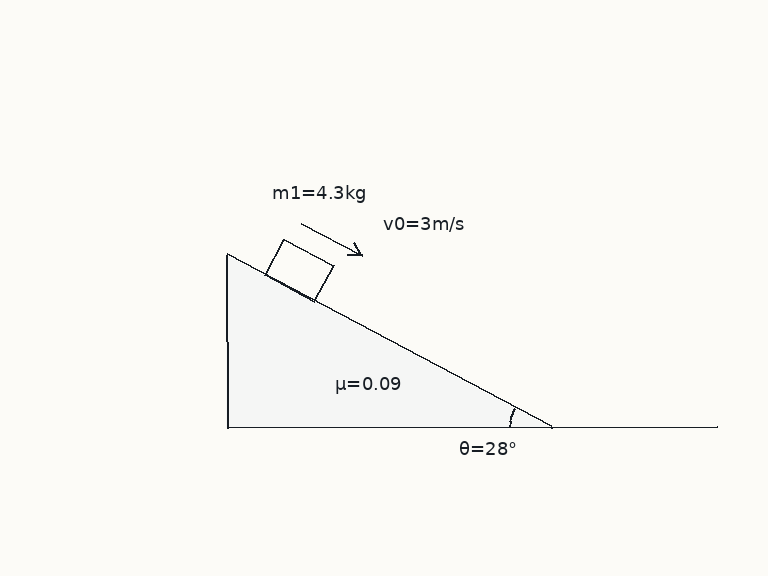block: (263, 237, 335, 303)
ramp: (225, 253, 552, 429)
